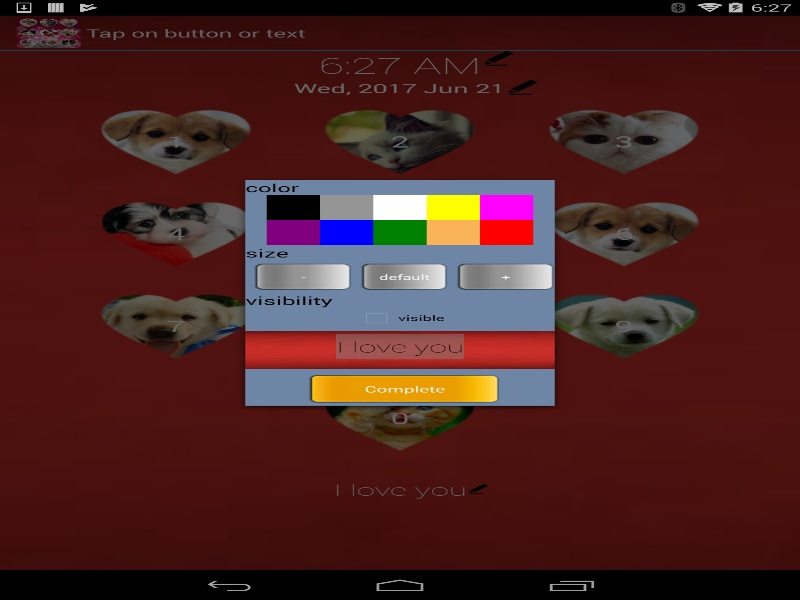Button: (300, 371, 500, 405), (245, 260, 352, 292), (448, 260, 554, 292), (352, 260, 448, 292), (266, 195, 320, 220), (426, 195, 480, 220), (266, 220, 320, 245), (426, 220, 480, 245), (320, 195, 373, 220), (373, 195, 426, 220), (480, 195, 533, 220), (320, 220, 373, 245), (373, 220, 426, 245), (480, 220, 533, 245)
Input: (336, 334, 463, 359)
